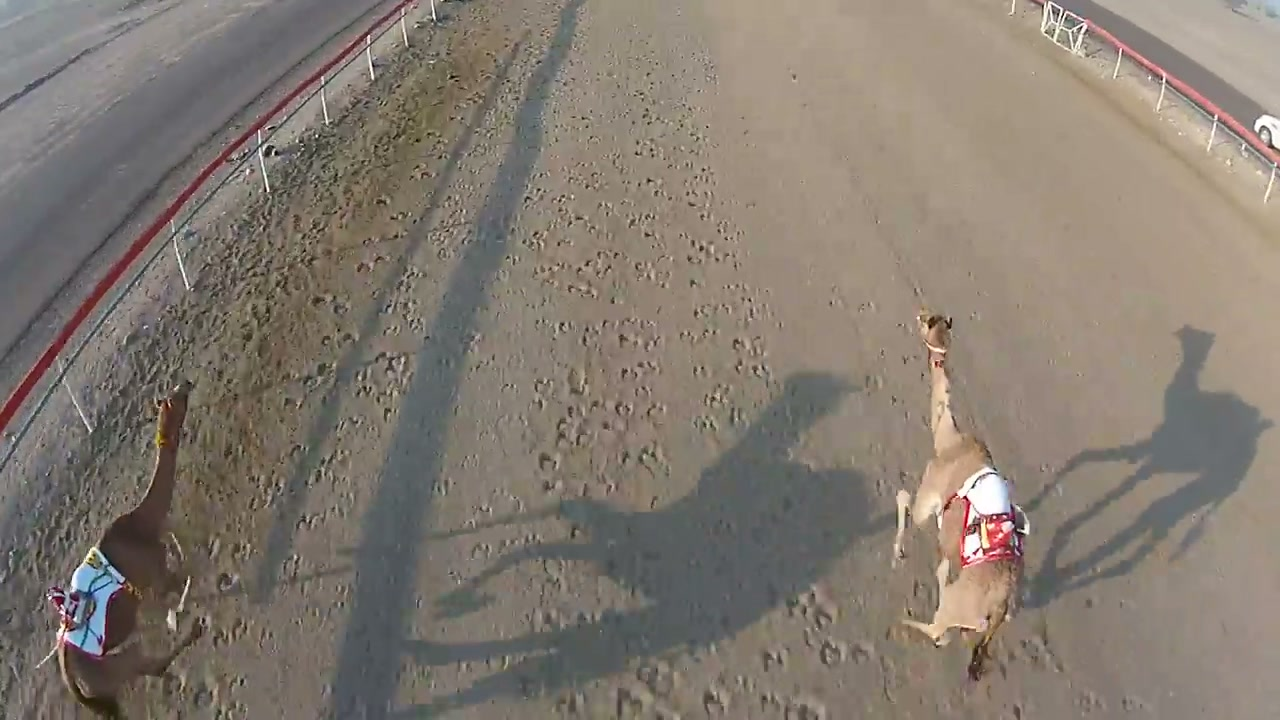animal_foot_print: (511, 35, 815, 719), (198, 140, 453, 658)
